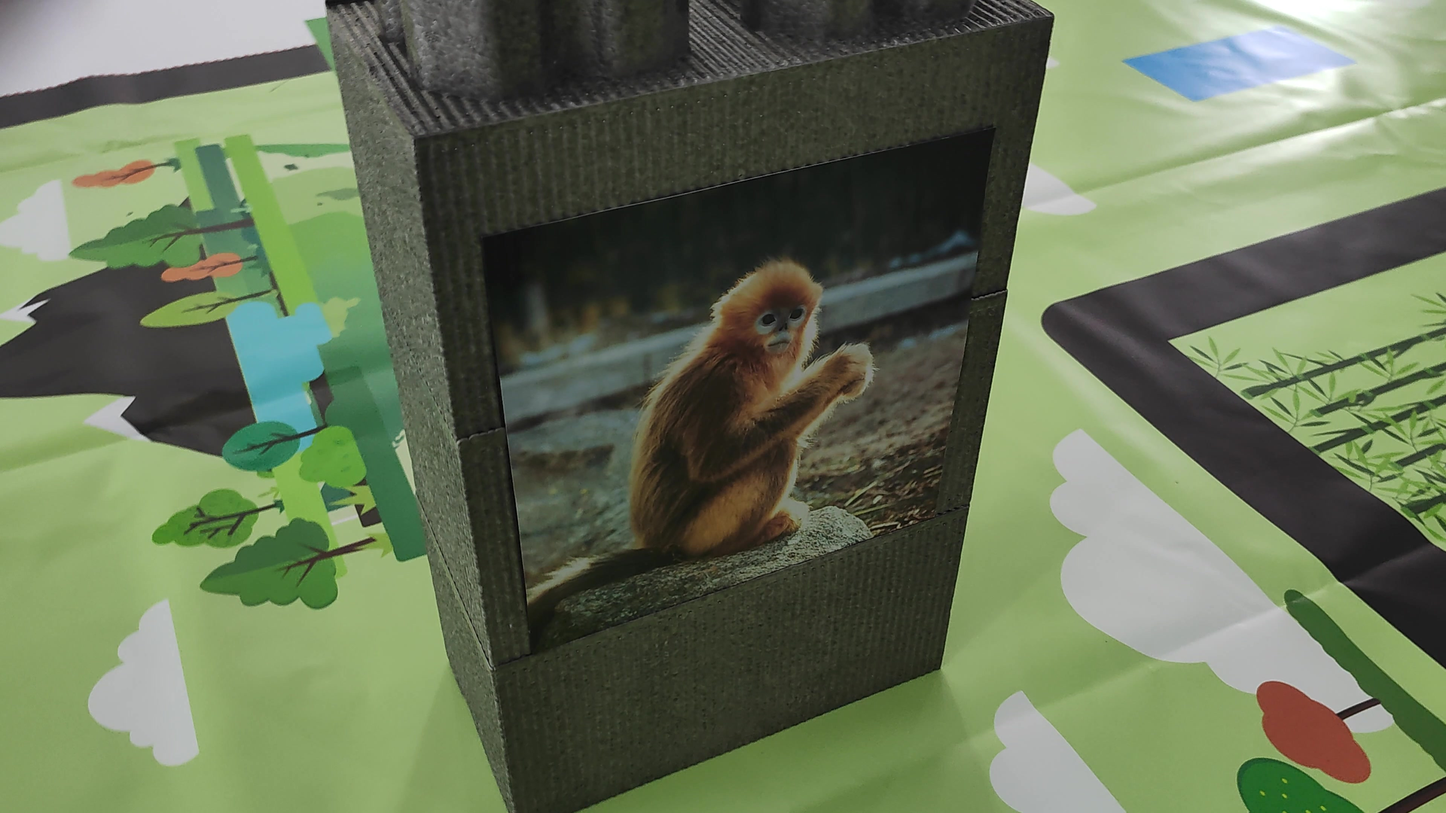monkey: (516, 237, 886, 603)
